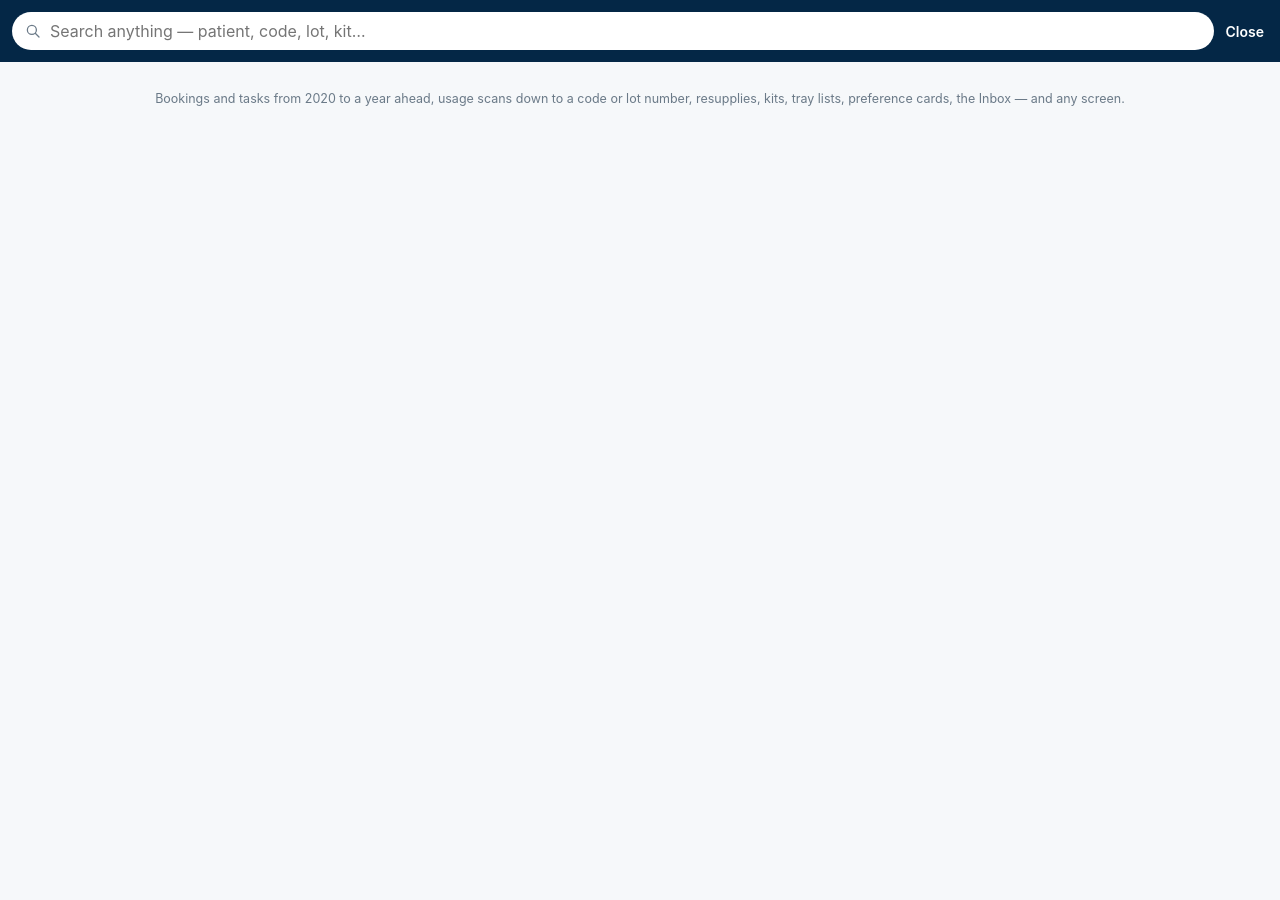
Test: tasks in the results › are shown as tasks; a calendar task opens, a board task says where it lives
The width and height of the screenshot is (1280, 900).
Later steps or results of the test are not shown.
Type "athlet" into the search field at x=626, y=31, box [50,12,1202,50]
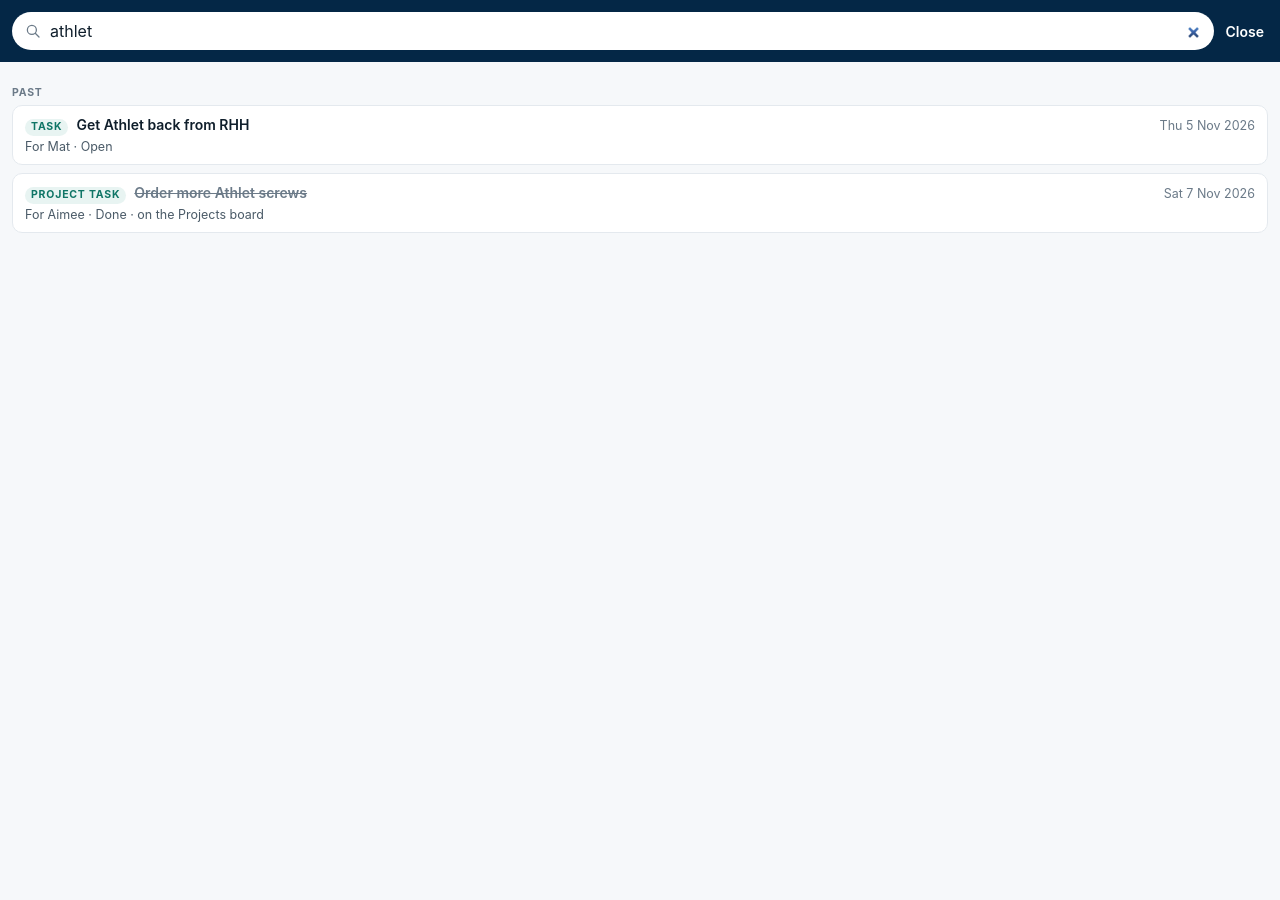
Check: the text "Get Athlet back from RHH" is shown, box [76,116,249,133]
Check: the text "For Mat · Open" is shown, box [25,139,112,154]
Check: the text "For Aimee · Done · on the Projects board" is shown, box [25,207,264,222]
